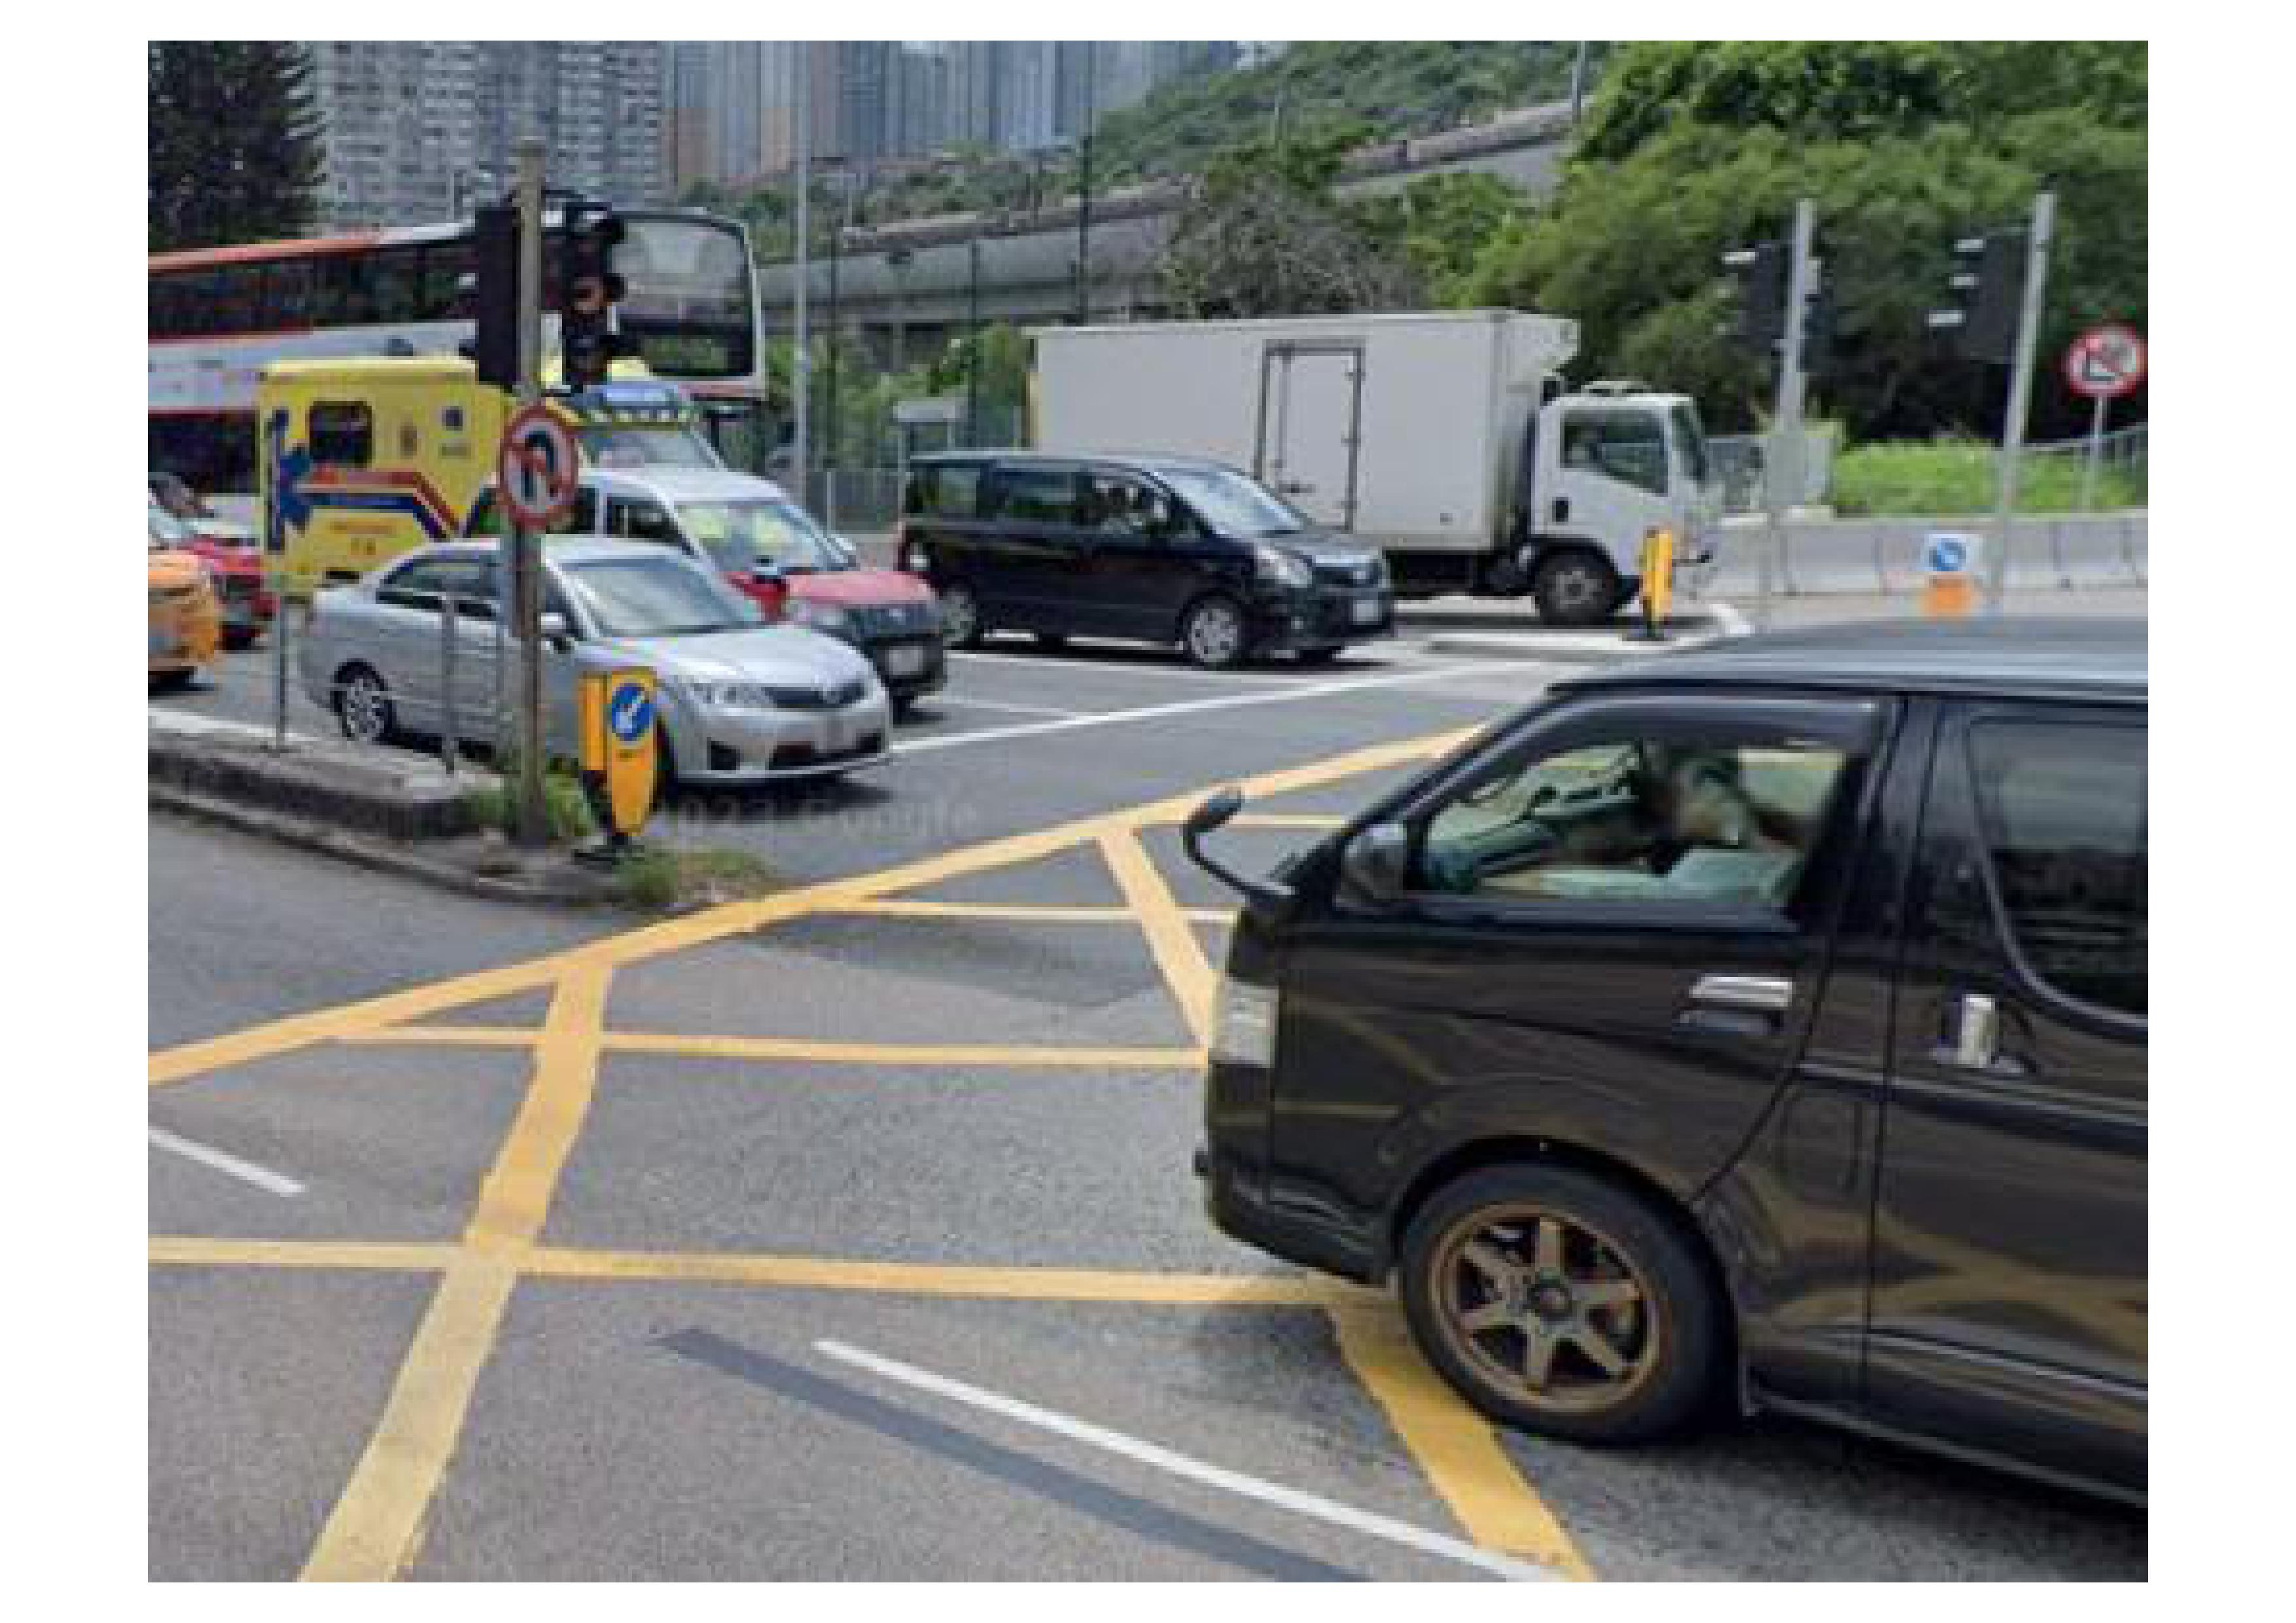No Uturn: (493, 411, 581, 534)
